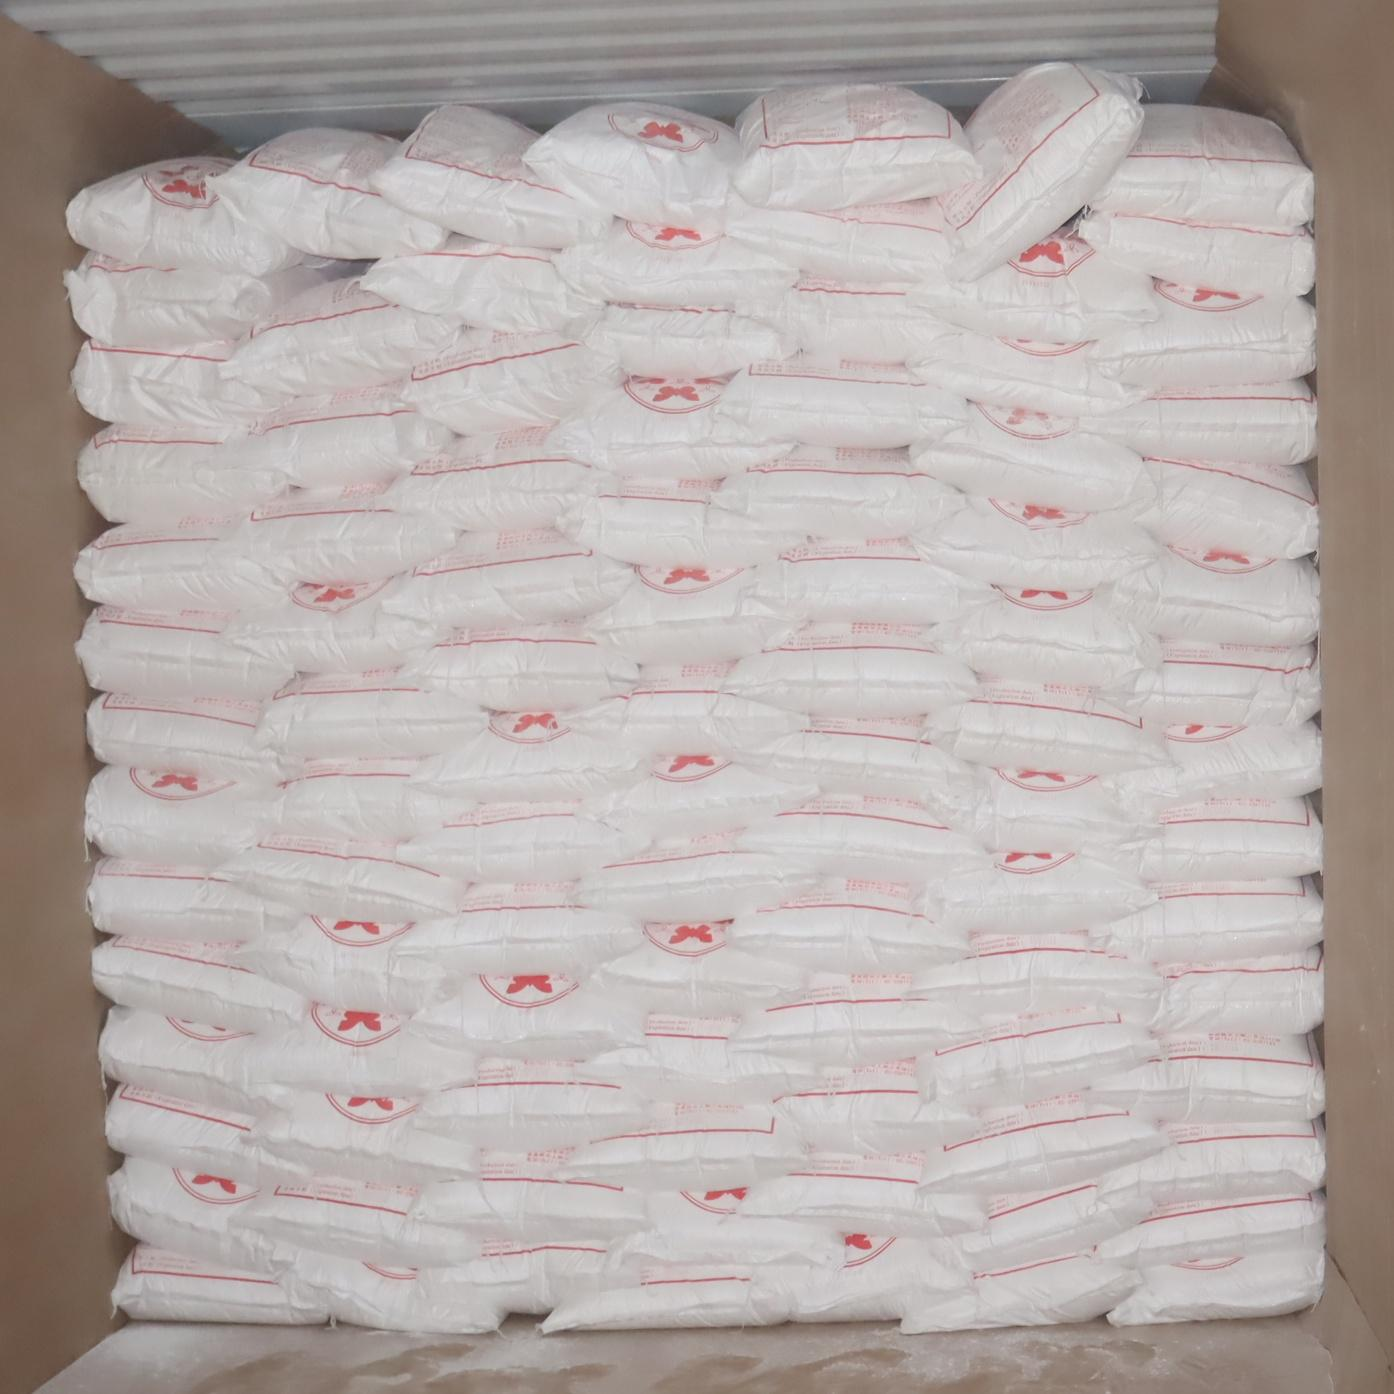sack: (941, 63, 1142, 280), (371, 105, 608, 249), (732, 85, 980, 211), (214, 128, 446, 259), (524, 101, 754, 231), (1086, 104, 1314, 230), (912, 227, 1159, 342), (221, 278, 455, 399), (67, 158, 305, 274), (64, 251, 346, 348), (913, 404, 1154, 510), (550, 375, 793, 478), (581, 922, 846, 1015), (219, 383, 453, 488), (723, 622, 977, 718), (388, 529, 631, 629), (921, 1095, 1164, 1195), (713, 446, 964, 541), (918, 1008, 1157, 1107), (1094, 282, 1315, 389), (929, 587, 1160, 687), (914, 931, 1162, 1024), (729, 975, 979, 1067), (398, 883, 642, 977), (366, 234, 600, 331), (405, 329, 621, 434), (571, 662, 807, 758), (233, 484, 459, 584), (743, 538, 996, 627), (410, 1148, 647, 1243), (916, 496, 1158, 589), (717, 356, 967, 446), (388, 426, 600, 532), (931, 679, 1167, 774), (733, 718, 976, 810), (731, 878, 966, 973), (736, 796, 989, 884), (108, 1157, 295, 1276), (225, 576, 450, 674), (234, 1177, 481, 1266), (563, 1103, 803, 1193), (237, 916, 456, 1014), (75, 515, 298, 611), (558, 478, 804, 565), (244, 1003, 474, 1096), (584, 1013, 824, 1102), (99, 1006, 294, 1115), (416, 1058, 647, 1150), (586, 562, 791, 665), (1093, 1032, 1325, 1123), (1107, 546, 1318, 646), (78, 424, 286, 525), (410, 712, 646, 801), (255, 669, 488, 759), (557, 220, 798, 307), (406, 622, 638, 712), (76, 606, 294, 701), (742, 1153, 985, 1238), (106, 1084, 314, 1183), (224, 836, 466, 921), (607, 1180, 843, 1267), (253, 1094, 476, 1186), (1080, 210, 1315, 296), (410, 973, 642, 1060), (576, 834, 816, 918), (909, 330, 1143, 416), (1119, 457, 1318, 558), (585, 755, 818, 841), (93, 936, 308, 1029), (404, 801, 647, 883), (87, 693, 303, 784), (933, 1184, 1152, 1273), (738, 275, 959, 363), (1104, 1120, 1324, 1208), (72, 338, 283, 429), (727, 198, 950, 284), (1091, 379, 1316, 464), (922, 853, 1158, 934), (902, 1252, 1137, 1333), (1094, 878, 1323, 961), (542, 1263, 813, 1333), (776, 1057, 977, 1151), (86, 766, 274, 866), (1114, 720, 1321, 810), (935, 767, 1154, 852), (1105, 797, 1321, 882), (1104, 641, 1321, 724), (87, 857, 297, 942), (113, 1243, 328, 1325), (286, 1251, 501, 1333), (1108, 1247, 1324, 1326), (272, 757, 469, 841), (1099, 1193, 1324, 1266), (570, 304, 793, 376), (790, 1235, 967, 1321), (1151, 947, 1323, 1035), (423, 1241, 606, 1316)
